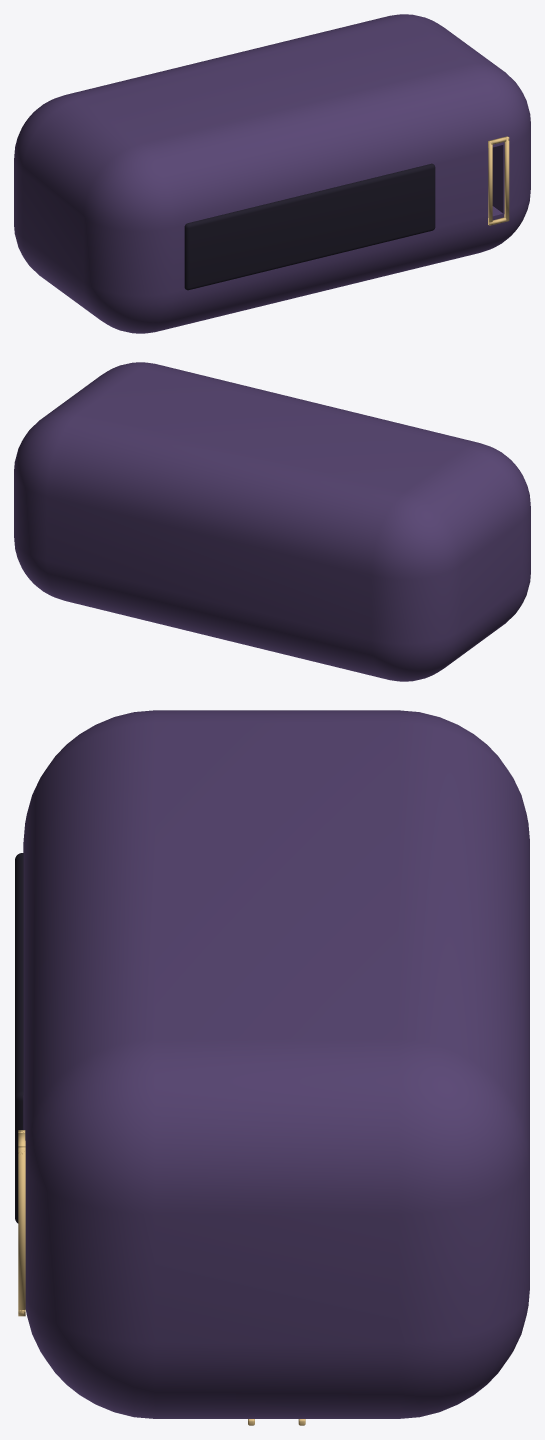
File: printer2.glb
The picture shows the model from 3 angles, top to bottom: view 1: azimuth 30°, elevation 25°; view 2: azimuth 150°, elevation 25°; view 3: azimuth 270°, elevation 25°; orthographic projection. The views are drawn at different scales.
Visible parts, largest first — view 1: body, face_panel, coin_rim_r, coin_rim_l; view 2: body; view 3: body, face_panel, coin_rim_r.
Part boxes in pixels (box(x1,y1,x2,y2)): body: box(14, 14, 530, 333); face_panel: box(184, 163, 435, 290); coin_rim_r: box(504, 136, 509, 221); coin_rim_l: box(488, 140, 492, 225); body: box(14, 362, 530, 681); body: box(23, 710, 529, 1418); face_panel: box(15, 853, 23, 1223); coin_rim_r: box(18, 1146, 25, 1316).
Size of the model in its own units: 20 by 8.1 by 10.17.
